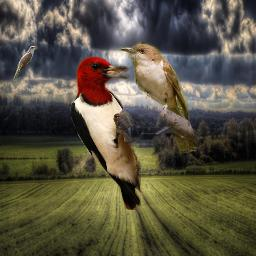Cuckoo: (119, 41, 197, 153), (12, 46, 38, 82)
Woodpecker: (70, 56, 141, 210)
